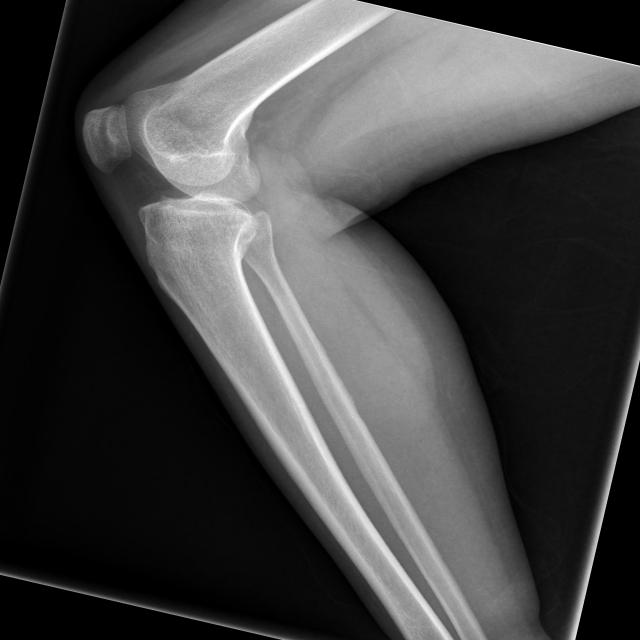Knee: (52, 70, 300, 282)
